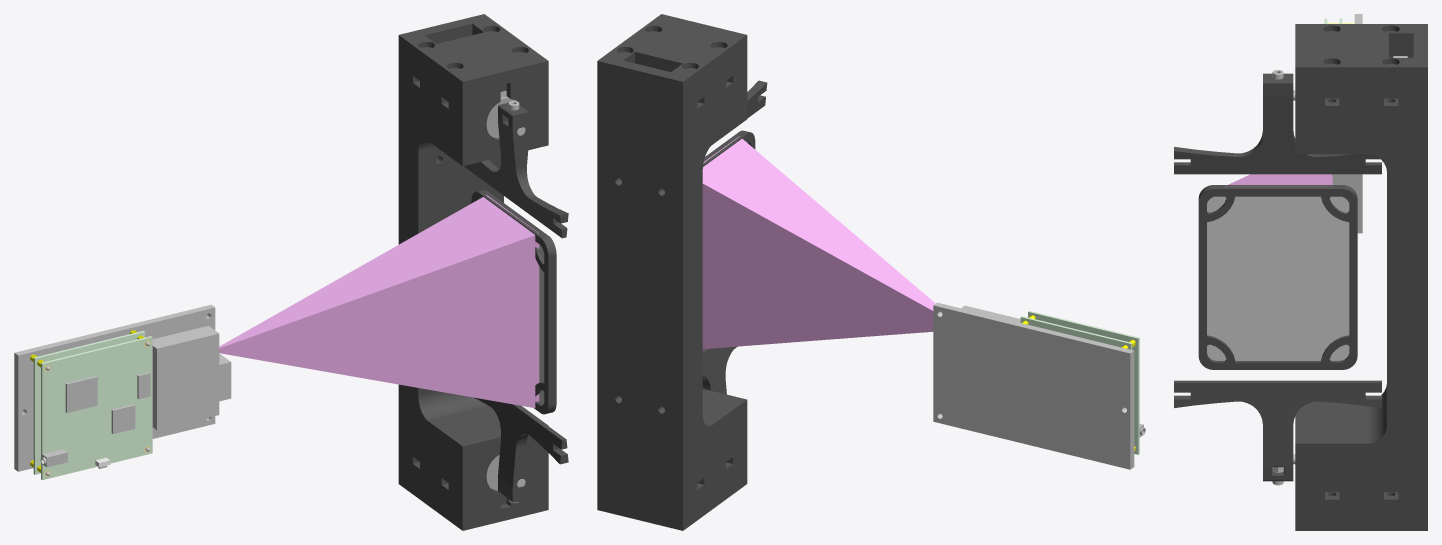
3 views of the same model, side by side, from view 1: azimuth 30°, elevation 25°; view 2: azimuth 150°, elevation 25°; view 3: azimuth 270°, elevation 25° (orthographic). The views are drawn at different scales.
Visible parts, largest first — view 1: Projector Assembly v7; view 2: Projector Assembly v7; view 3: Projector Assembly v7.
Part boxes in pixels (x1,y1,x2,y2): Projector Assembly v7: (14,14,568,530); Projector Assembly v7: (597,14,1145,530); Projector Assembly v7: (1174,14,1427,530).
Bounding box in the file's own units: 29.36 × 25.12 × 12.46.
